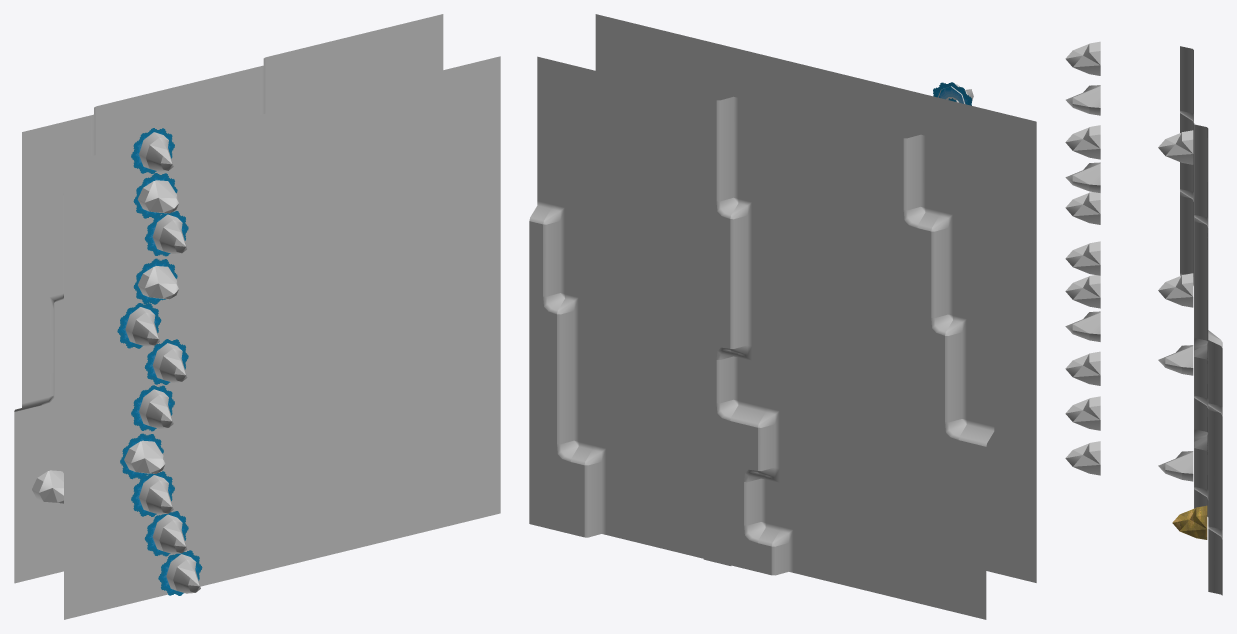
The model's file is Barrier-Reef_15_11.obj.
The picture shows the model from 3 angles, left to right: view 1: azimuth 30°, elevation 25°; view 2: azimuth 150°, elevation 25°; view 3: azimuth 270°, elevation 25°; orthographic projection. The views are drawn at different scales.
Parts seen in each view (by area): view 1: map; view 2: map; view 3: map.
Boxes of the visible parts, bbox=[...] form: map: bbox=[14, 14, 500, 619]; map: bbox=[529, 14, 1036, 619]; map: bbox=[1065, 41, 1222, 595].
Bounding box in the file's own units: 32 × 33.23 × 11.04.
